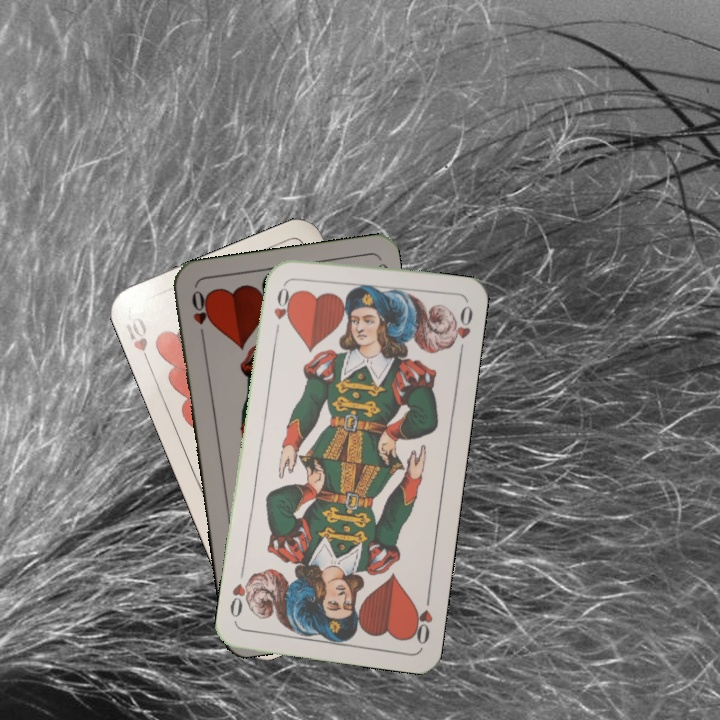H10: (121, 313, 154, 368)
HO: (408, 589, 436, 647), (187, 286, 213, 344), (269, 277, 292, 335)
